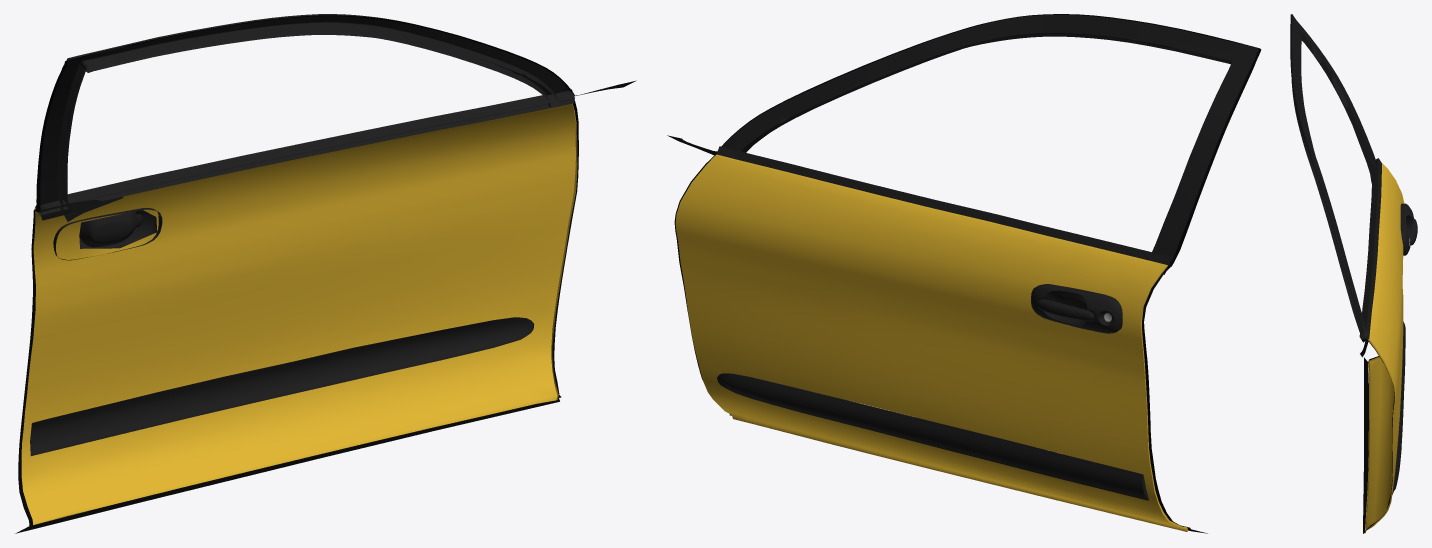
The picture shows the model from 3 angles, left to right: view 1: azimuth 30°, elevation 25°; view 2: azimuth 150°, elevation 25°; view 3: azimuth 270°, elevation 25°; orthographic projection. The views are drawn at different scales.
Parts seen in each view (by area): view 1: P353_20_261B_L_1_DaS_P353_20_261B_L, P353_20_261B_L_P353_20_261B_L_2_D, P353_20_261B_L_P353_20_261B_L_3_D, P353_20_261B_L_1_DaS_P353_20_261B_L_E; view 2: P353_20_261B_L_1_DaS_P353_20_261B_L, P353_20_261B_L_P353_20_261B_L_2_D, P353_20_261B_L_P353_20_261B_L_3_D; view 3: P353_20_261B_L_1_DaS_P353_20_261B_L, P353_20_261B_L_P353_20_261B_L_2_D, P353_20_261B_L_P353_20_261B_L_3_D, P353_20_261B_L_1_DaS_P353_20_261B_L_E.
Boxes of the visible parts, box(x1,y1,x2,y2) form: P353_20_261B_L_1_DaS_P353_20_261B_L: box(21, 104, 575, 524); P353_20_261B_L_P353_20_261B_L_2_D: box(30, 14, 574, 455); P353_20_261B_L_P353_20_261B_L_3_D: box(15, 15, 636, 533); P353_20_261B_L_1_DaS_P353_20_261B_L_E: box(34, 103, 577, 523); P353_20_261B_L_1_DaS_P353_20_261B_L: box(675, 154, 1187, 531); P353_20_261B_L_P353_20_261B_L_2_D: box(716, 14, 1258, 500); P353_20_261B_L_P353_20_261B_L_3_D: box(667, 14, 1261, 533); P353_20_261B_L_1_DaS_P353_20_261B_L: box(1365, 163, 1404, 529); P353_20_261B_L_P353_20_261B_L_2_D: box(1291, 14, 1417, 494); P353_20_261B_L_P353_20_261B_L_3_D: box(1290, 14, 1394, 533); P353_20_261B_L_1_DaS_P353_20_261B_L_E: box(1365, 339, 1396, 533).
Size of the model in its own units: 152 by 119 by 40.21.
